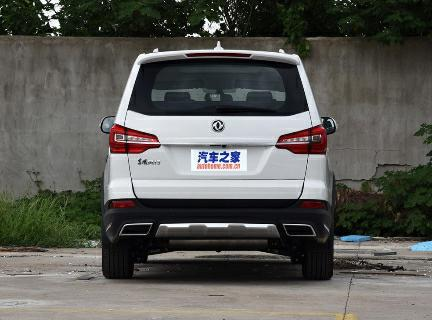东风风行-景逸X6: (91, 39, 347, 291)
